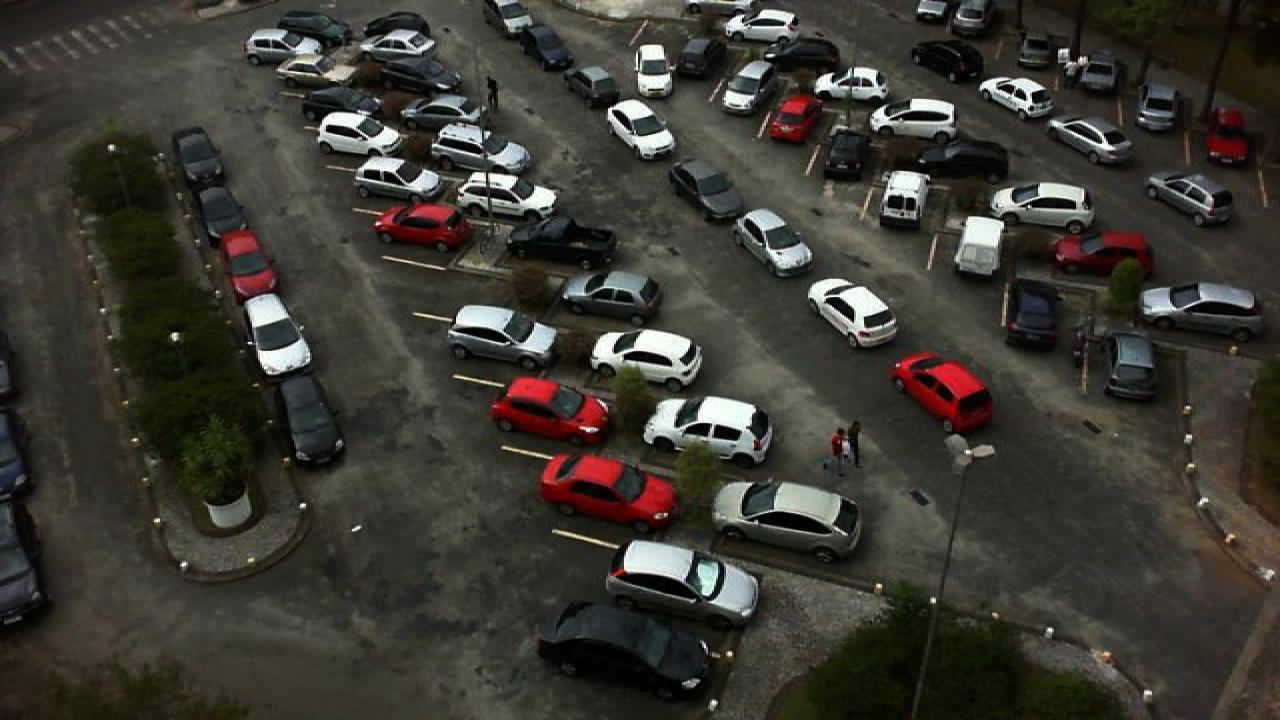Car: (534, 600, 718, 703), (602, 538, 760, 631), (708, 478, 864, 564), (538, 452, 680, 532), (638, 394, 774, 467), (490, 377, 612, 445), (1132, 281, 1266, 342), (444, 304, 560, 369), (272, 371, 346, 468), (590, 328, 702, 392), (504, 215, 620, 272), (240, 294, 316, 379), (986, 181, 1096, 236), (426, 121, 532, 174), (560, 269, 662, 324), (372, 201, 478, 253), (1050, 228, 1156, 280), (452, 173, 560, 222), (1144, 173, 1236, 227), (350, 155, 444, 205), (216, 230, 280, 300), (1000, 281, 1062, 352), (316, 110, 404, 160), (1100, 330, 1160, 402), (868, 97, 960, 143), (1044, 117, 1132, 165), (916, 135, 1010, 179), (168, 126, 228, 188), (976, 75, 1058, 120), (196, 186, 256, 243), (400, 94, 486, 132), (908, 38, 984, 80), (364, 57, 450, 94), (274, 55, 366, 89), (1204, 107, 1254, 169), (298, 86, 384, 121), (240, 28, 326, 63), (356, 27, 438, 63), (1066, 46, 1118, 95), (278, 9, 352, 43), (1134, 82, 1182, 132), (1014, 26, 1056, 71), (358, 10, 430, 35), (946, 0, 990, 36), (912, 0, 948, 22)
